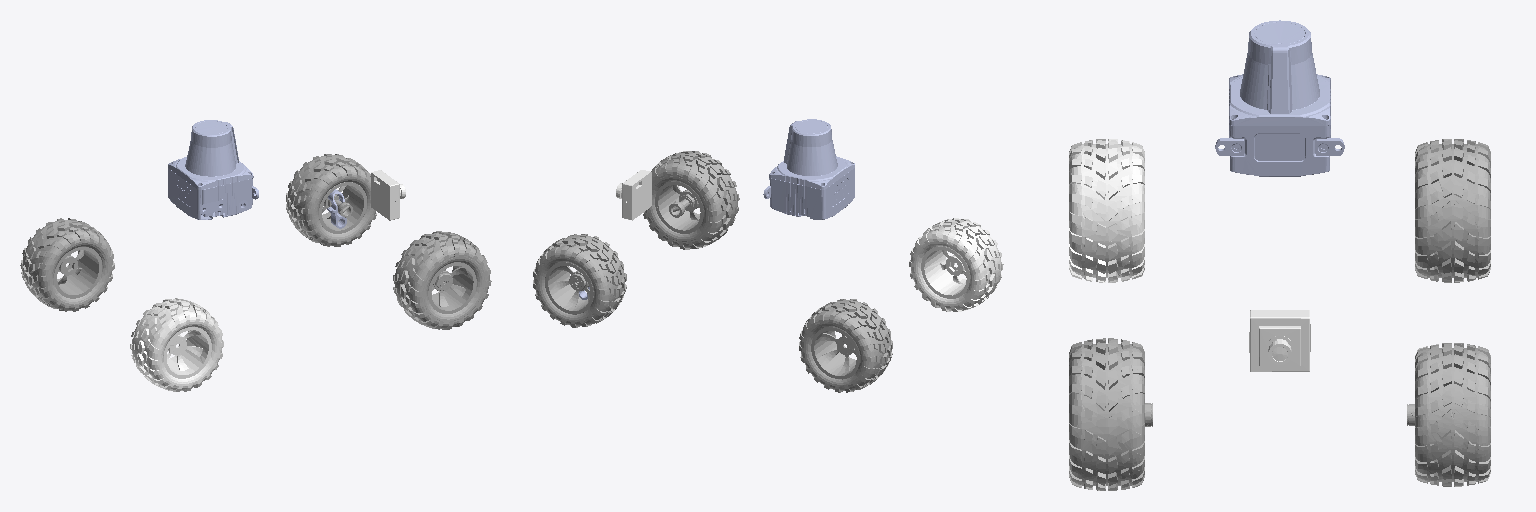
The robot description file, URDF, robot "osracer":
<?xml version="1.0" encoding="utf-8"?>
<!-- This URDF was automatically created by SolidWorks to URDF Exporter! Originally created by Stephen Brawner (brawner@gmail.com)
     Commit Version: 1.6.0-4-g7f85cfe  Build Version: 1.6.7995.38578
     For more information, please see http://wiki.ros.org/sw_urdf_exporter -->
<robot
  name="osracer">
  <link
    name="base_footprint">
  </link>
  <joint name="base_footprint_to_base_link" type="fixed">
    <parent link="base_footprint" />
    <child link="base_link" />
    <origin xyz="0 0 0.0315" rpy="0 0 0"/>
  </joint>
  <link
    name="base_link">
    <inertial>
      <origin
        xyz="-0.027761 -0.014339 -0.081554"
        rpy="0 0 0" />
      <mass
        value="1.6211" />
      <inertia
        ixx="0.002377"
        ixy="0.00"
        ixz="0.00"
        iyy="0.0058394"
        iyz="0.00"
        izz="0.0070057" />
    </inertial>
    <visual>
      <origin
        xyz="0 0 0"
        rpy="0 0 0" />
      <geometry>
        <mesh
          filename="package://osracer_description/meshes/base_link.STL" />
      </geometry>
      <material
        name="">
        <color
          rgba="0.75294 0.75294 0.75294 1" />
      </material>
    </visual>
    <collision>
      <origin
        xyz="0 0 0"
        rpy="0 0 0" />
      <geometry>
        <mesh
          filename="package://osracer_description/meshes/base_link.STL" />
      </geometry>
    </collision>
  </link>
  <link
    name="camera_link">
    <inertial>
      <origin
        xyz="0.029709 0.0025754 -0.1495"
        rpy="3.1415 0 3.1415" />
      <mass
        value="0.0050" />
      <inertia
        ixx="0.02422"
        ixy="0.00010347"
        ixz="0.00098856"
        iyy="0.021593"
        iyz="-0.00010249"
        izz="0.0055482" />
    </inertial>
    <visual>
      <origin
        xyz="0 0 0"
        rpy="3.1415 0 3.1415" />
      <geometry>
        <mesh
          filename="package://osracer_description/meshes/camera_link.STL" />
      </geometry>
      <material
        name="">
        <color
          rgba="1 1 1 1" />
      </material>
    </visual>
    <collision>
      <origin
        xyz="0 0 0"
        rpy="3.1415 0 3.1415" />
      <geometry>
        <mesh
          filename="package://osracer_description/meshes/camera_link.STL" />
      </geometry>
    </collision>
  </link>
  <joint
    name="camera_joint"
    type="fixed">
    <origin
      xyz="0.12323 -0.017229 -0.053395"
      rpy="-1.5708 0 -1.5708" />
    <parent
      link="base_link" />
    <child
      link="camera_link" />
    <axis
      xyz="0 0 0" />
  </joint>
  <link
    name="laser">
    <inertial>
      <origin
        xyz="0.052553 0.0022846 -0.11893"
        rpy="0 0 0" />
      <mass
        value="0.160" />
      <inertia
        ixx="0.00005"
        ixy="-0.00"
        ixz="-0.00"
        iyy="0.00005"
        iyz="0"
        izz="0.000024139" />
    </inertial>
    <visual>
      <origin
        xyz="0 0 0"
        rpy="0 0 3.1415" />
      <geometry>
        <mesh
          filename="package://osracer_description/meshes/laser_link.STL" />
      </geometry>
      <material
        name="">
        <color
          rgba="0.79608 0.82353 0.93725 1" />
      </material>
    </visual>
    <collision>
      <origin
        xyz="0 0 0"
        rpy="0 0 0" />
      <geometry>
        <mesh
          filename="package://osracer_description/meshes/laser_link.STL" />
      </geometry>
    </collision>
  </link>
  <joint
    name="laser_joint"
    type="fixed">
    <origin
      xyz="-0.082558 -0.017229 0.034095"
      rpy="0 0 0" />
    <parent
      link="base_link" />
    <child
      link="laser" />
    <axis
      xyz="0 0 0" />
  </joint>
  <link
    name="imu_link">
    <inertial>
      <origin
        xyz="-0.068069 0.0031046 -0.019505"
        rpy="0 0 0" />
      <mass
        value="0.01936" />
      <inertia
        ixx="0.000055482"
        ixy="0"
        ixz="0"
        iyy="0.000021593"
        iyz="0"
        izz="0.00002422" />
    </inertial>
    <visual>
      <origin
        xyz="0 0 0"
        rpy="0 0 0" />
      <geometry>
        <mesh
          filename="package://osracer_description/meshes/imu_link.STL" />
      </geometry>
      <material
        name="">
        <color
          rgba="0.79608 0.82353 0.93725 1" />
      </material>
    </visual>
    <collision>
      <origin
        xyz="0 0 0"
        rpy="0 0 0" />
      <geometry>
        <mesh
          filename="package://osracer_description/meshes/imu_link.STL" />
      </geometry>
    </collision>
  </link>
  <joint
    name="imu_joint"
    type="fixed">
    <origin
      xyz="0.0417958953212156 -0.0177578126845364 -0.063598843109235"
      rpy="0 0 0" />
    <parent
      link="base_link" />
    <child
      link="imu_link" />
    <axis
      xyz="0 0 0" />
  </joint>
  <link
    name="left_steering_hinge_link">
    <inertial>
      <origin
        xyz="-0.0046612 -0.0043454 -0.0038099"
        rpy="0 0 0" />
      <mass
        value="0.0018372" />
      <inertia
        ixx="4.2E-05"
        ixy="0"
        ixz="0"
        iyy="4.2E-05"
        iyz="0"
        izz="4.2E-05" />
    </inertial>
    <visual>
      <origin
        xyz="0 0 0"
        rpy="0 0 0" />
      <geometry>
        <mesh
          filename="package://osracer_description/meshes/left_steering_hinge_link.STL" />
      </geometry>
      <material
        name="">
        <color
          rgba="0.79608 0.82353 0.93725 1" />
      </material>
    </visual>
    <collision>
      <origin
        xyz="0 0 0"
        rpy="0 0 0" />
      <geometry>
        <mesh
          filename="package://osracer_description/meshes/left_steering_hinge_link.STL" />
      </geometry>
    </collision>
  </link>
  <joint
    name="left_steering_hinge_joint"
    type="revolute">
    <origin
      xyz="0.11108 0.078168 -0.10247"
      rpy="0 0 0" />
    <parent
      link="base_link" />
    <child
      link="left_steering_hinge_link" />
    <axis
      xyz="0.061804 0 -0.99809" />
    <limit
      lower="-0.5236"
      upper="0.5236"
      effort="5"
      velocity="2.0" />
  </joint>
  <link
    name="Left_front_wheel_link">
    <inertial>
      <origin
        xyz="-1.613E-06 -0.0060175 1.03E-06"
        rpy="0 0 0" />
      <mass
        value="0.0573" />
      <inertia
        ixx="0.00005"
        ixy="0"
        ixz="0"
        iyy="0.00005"
        iyz="0"
        izz="0.00005" />
    </inertial>
    <visual>
      <origin
        xyz="0 0 0"
        rpy="0 0 0" />
      <geometry>
        <mesh
          filename="package://osracer_description/meshes/Left_front_wheel_link.STL"
          scale="0.941 1 0.941" />
      </geometry>
      <material
        name="">
        <color
          rgba="0.75294 0.75294 0.75294 1" />
      </material>
    </visual>
    <collision>
      <origin
        xyz="0 0 0"
        rpy="0 0 0" />
      <geometry>
        <mesh
          filename="package://osracer_description/meshes/Left_front_wheel_link.STL"
          scale="0.941 1 0.941" />
      </geometry>
    </collision>
  </link>
  <joint
    name="Left_front_wheel_joint"
    type="continuous">
    <origin
      xyz="-0.0041187 0.012103 0.0020651"
      rpy="0 0 0" />
    <parent
      link="left_steering_hinge_link" />
    <child
      link="Left_front_wheel_link" />
    <axis
      xyz="0 1 0" />
  </joint>
  <link
    name="right_steering_hinge_link">
    <inertial>
      <origin
        xyz="0.00090885 -0.010014 0.0061136"
        rpy="0 0 0" />
      <mass
        value="0.039629" />
      <inertia
        ixx="4.2E-05"
        ixy="0"
        ixz="0"
        iyy="4.2E-05"
        iyz="0"
        izz="4.2E-05" />
    </inertial>
    <visual>
      <origin
        xyz="0 0 0"
        rpy="0 0 0" />
      <geometry>
        <mesh
          filename="package://osracer_description/meshes/right_steering_hinge_link.STL" />
      </geometry>
      <material
        name="">
        <color
          rgba="0.75294 0.75294 0.75294 1" />
      </material>
    </visual>
    <collision>
      <origin
        xyz="0 0 0"
        rpy="0 0 0" />
      <geometry>
        <mesh
          filename="package://osracer_description/meshes/right_steering_hinge_link.STL" />
      </geometry>
    </collision>
  </link>
  <joint
    name="right_steering_hinge_joint"
    type="revolute">
    <origin
      xyz="0.10643 -0.1087 -0.10656"
      rpy="0 -0.061844 0" />
    <parent
      link="base_link" />
    <child
      link="right_steering_hinge_link" />
    <axis
      xyz="0 0 -1" />
    <limit
      lower="-0.5236"
      upper="0.5236"
      effort="5"
      velocity="2.0" />
  </joint>
  <link
    name="right_front_wheel_link">
    <inertial>
      <origin
        xyz="1.5464E-06 0.0060175 1.1275E-06"
        rpy="0 0 0" />
      <mass
        value="0.0587" />
      <inertia
        ixx="0.00005"
        ixy="0"
        ixz="0"
        iyy="0.00005"
        iyz="0"
        izz="0.00005" />
    </inertial>
    <visual>
      <origin
        xyz="0 0 0"
        rpy="0 0 0" />
      <geometry>
        <mesh
          filename="package://osracer_description/meshes/right_front_wheel_link.STL"
          scale="0.941 1 0.941" />
      </geometry>
      <material
        name="">
        <color
          rgba="0.75294 0.75294 0.75294 1" />
      </material>
    </visual>
    <collision>
      <origin
        xyz="0 0 0"
        rpy="0 0 0" />
      <geometry>
        <mesh
          filename="package://osracer_description/meshes/right_front_wheel_link.STL"
          scale="0.941 1 0.941" />
      </geometry>
    </collision>
  </link>
  <joint
    name="right_front_wheel_joint"
    type="continuous">
    <origin
      xyz="0.00090723 -0.016032 0.0061126"
      rpy="0 0.061844 0" />
    <parent
      link="right_steering_hinge_link" />
    <child
      link="right_front_wheel_link" />
    <axis
      xyz="0 -1 0" />
  </joint>
  <link
    name="left_rear_wheel_link">
    <inertial>
      <origin
        xyz="-4.918E-08 -0.0054416 1.8276E-07"
        rpy="0 0 0" />
      <mass
        value="0.0587" />
      <inertia
        ixx="0.00005"
        ixy="0"
        ixz="0"
        iyy="0.00005"
        iyz="0"
        izz="0.00005" />
    </inertial>
    <visual>
      <origin
        xyz="0 0 0"
        rpy="0 0 0" />
      <geometry>
        <mesh
          filename="package://osracer_description/meshes/left_rear_wheel_link.STL"
          scale="0.941 1 0.941" />
      </geometry>
      <material
        name="">
        <color
          rgba="0.75294 0.75294 0.75294 1" />
      </material>
    </visual>
    <collision>
      <origin
        xyz="0 0 0"
        rpy="0 0 0" />
      <geometry>
        <mesh
          filename="package://osracer_description/meshes/left_rear_wheel_link.STL"
          scale="0.941 1 0.941" />
      </geometry>
    </collision>
  </link>
  <joint
    name="left_rear_wheel_joint"
    type="continuous">
    <origin
      xyz="-0.17785021060022 0.09027 -0.10041"
      rpy="0 0 0" />
    <parent
      link="base_link" />
    <child
      link="left_rear_wheel_link" />
    <axis
      xyz="0 -1 0" />
  </joint>
  <link
    name="right_rear_wheel_link">
    <inertial>
      <origin
        xyz="0 0 0"
        rpy="0 0 0" />
      <mass
        value="0.0587" />
      <inertia
        ixx="0.00005"
        ixy="0"
        ixz="0"
        iyy="0.00005"
        iyz="0"
        izz="0.00005" />
    </inertial>
    <visual>
      <origin
        xyz="0 0 0"
        rpy="0 0 0" />
      <geometry>
        <mesh
          filename="package://osracer_description/meshes/right_rear_wheel_link.STL"
          scale="0.941 1 0.941" />
      </geometry>
      <material
        name="">
        <color
          rgba="1 1 1 1" />
      </material>
    </visual>
    <collision>
      <origin
        xyz="0 0 0"
        rpy="0 0 0" />
      <geometry>
        <mesh
          filename="package://osracer_description/meshes/right_rear_wheel_link.STL"
          scale="0.941 1 0.941" />
      </geometry>
    </collision>
  </link>
  <joint
    name="right_rear_wheel_joint"
    type="continuous">
    <origin
      xyz="-0.177851259399779 -0.124728618898254 -0.100407328161273"
      rpy="0 0 0" />
    <parent
      link="base_link" />
    <child
      link="right_rear_wheel_link" />
    <axis
      xyz="0 1 0" />
  </joint>
</robot>

--- Render facts (derived) ---
Views: 3 orthographic renders of the robot side by side, from view 1: azimuth 30°, elevation 25°; view 2: azimuth 150°, elevation 25°; view 3: azimuth 270°, elevation 25°.
Model osracer with 11 links and 10 joints (2 revolute, 4 continuous, 4 fixed), rooted at base_footprint, posed all joints at 0.
Links seen in each view (by area): view 1: right_rear_wheel_link, left_rear_wheel_link, laser, Left_front_wheel_link, right_steering_hinge_link, right_front_wheel_link, camera_link; view 2: right_rear_wheel_link, left_rear_wheel_link, Left_front_wheel_link, laser, right_steering_hinge_link, right_front_wheel_link, camera_link; view 3: laser, right_steering_hinge_link, Left_front_wheel_link, left_rear_wheel_link, right_rear_wheel_link, camera_link.
Link boxes in pixels (box(x1,y1,x2,y2)): right_rear_wheel_link: box(130, 298, 223, 391); left_rear_wheel_link: box(20, 218, 114, 311); laser: box(168, 120, 258, 219); Left_front_wheel_link: box(286, 154, 376, 246); right_steering_hinge_link: box(393, 231, 491, 329); right_front_wheel_link: box(406, 237, 485, 322); camera_link: box(371, 170, 405, 220); right_rear_wheel_link: box(909, 218, 1003, 311); left_rear_wheel_link: box(799, 299, 892, 392); Left_front_wheel_link: box(533, 234, 626, 327); laser: box(763, 119, 854, 219); right_steering_hinge_link: box(643, 151, 739, 249); right_front_wheel_link: box(648, 157, 723, 244); camera_link: box(616, 170, 651, 220); laser: box(1215, 20, 1344, 176); right_steering_hinge_link: box(1069, 338, 1152, 490); Left_front_wheel_link: box(1407, 343, 1490, 486); left_rear_wheel_link: box(1415, 139, 1490, 282); right_rear_wheel_link: box(1069, 139, 1144, 282); camera_link: box(1249, 310, 1310, 371).
Size in the robot's own frame: 0.3726 by 0.2485 by 0.2056 metres.
8 mesh visuals loaded from 10 distinct referenced files (8 binary STL); not drawn: 2 (reference not matched to a file when rendering).
